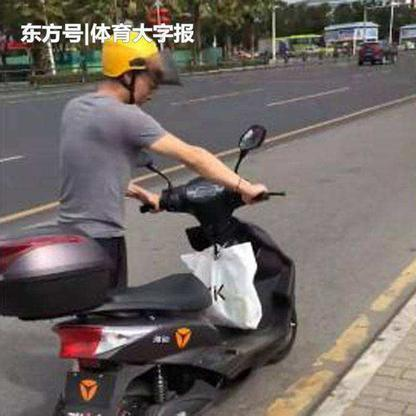target: (5, 29, 301, 403)
